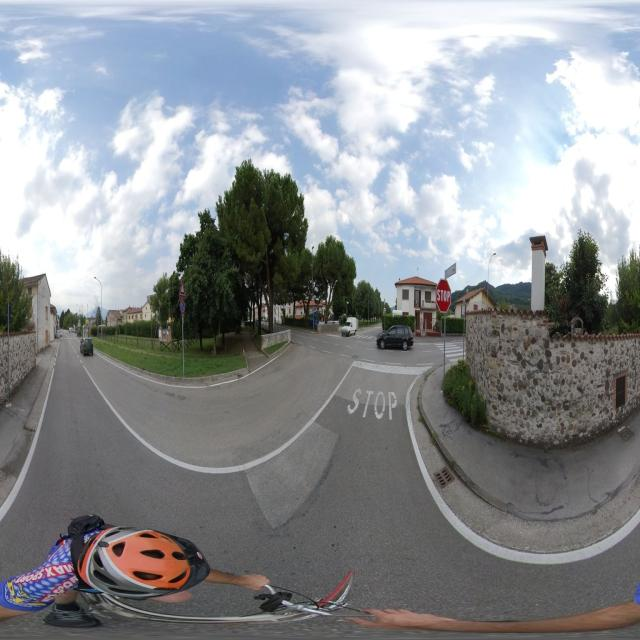forb_stopping: (180, 299, 185, 314)
